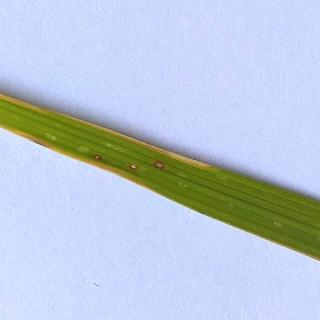Blast: (146, 139, 224, 184), (78, 142, 143, 186), (120, 151, 179, 185)
